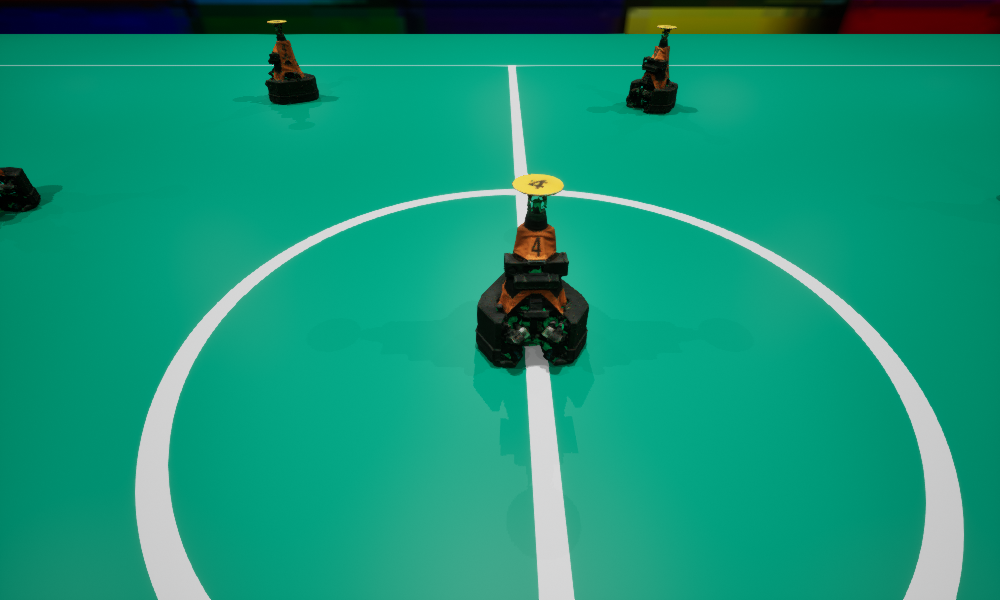o: (475, 174, 588, 367), (626, 25, 677, 113), (265, 20, 318, 103), (0, 167, 40, 212)
